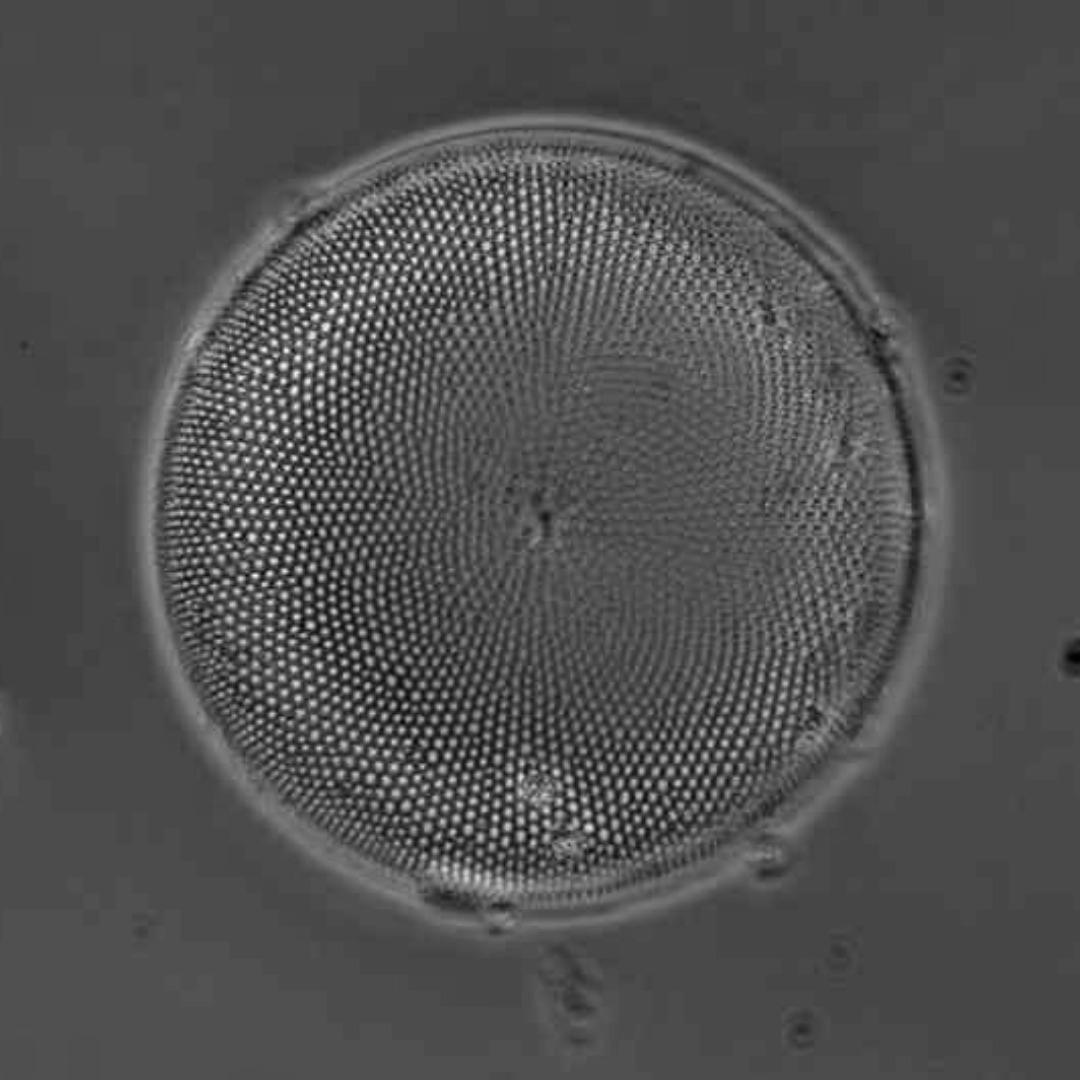coscinodiscus_oculus_iridis: (157, 142, 920, 907)
